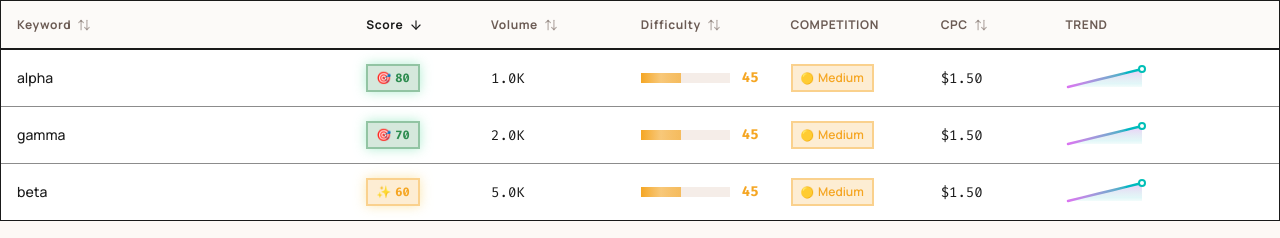
KeywordTable › sorting › sorts by volume when volume header clicked
Click the button "Volume" at x=524, y=24, box [491,16,558,32]
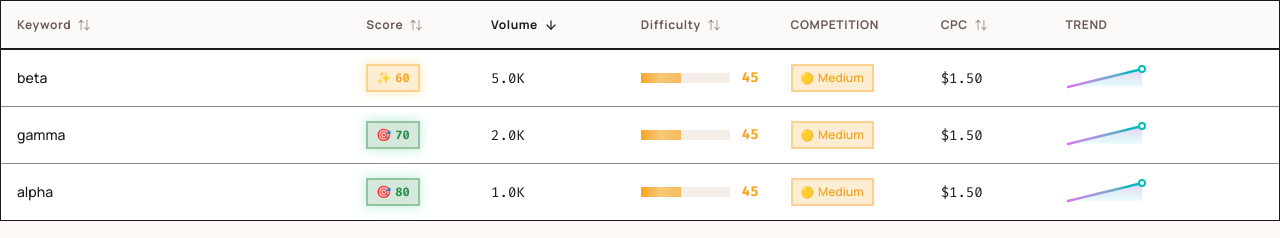
Expected: the row "beta ✨ 60 5.0K 45 🟡 Medium $1.50" is shown, [1,49,1279,106]
